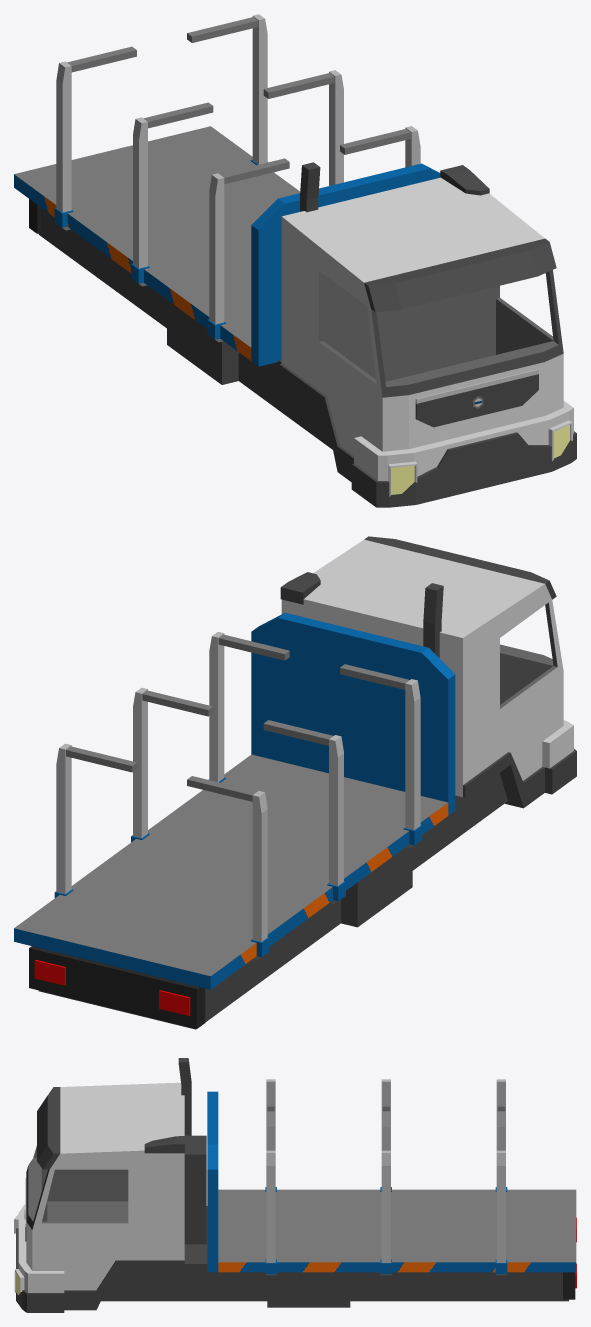
Rendered from FMX_4.fbx.
3 renders of one model, top to bottom at view 1: azimuth 30°, elevation 25°; view 2: azimuth 150°, elevation 25°; view 3: azimuth 270°, elevation 25°, orthographic. The views are drawn at different scales.
Parts seen in each view (by area): view 1: Cube, Cube.003; view 2: Cube.003, Cube; view 3: Cube.003, Cube.
Boxes of the visible parts, left/top/right/bottom form: Cube: left=279, top=162, right=576, bottom=507; Cube.003: left=14, top=14, right=440, bottom=449; Cube.003: left=14, top=612, right=507, bottom=1029; Cube: left=280, top=536, right=576, bottom=808; Cube.003: left=101, top=1079, right=576, bottom=1307; Cube: left=14, top=1058, right=191, bottom=1312.
Bounding box in the file's own units: 313 × 370 × 977.
Materials: 6 (2 with a texture image).
